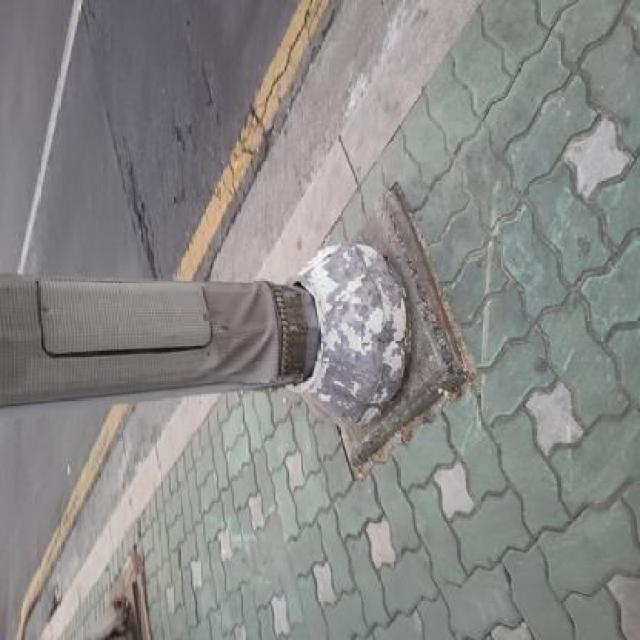pole: (0, 229, 417, 434)
